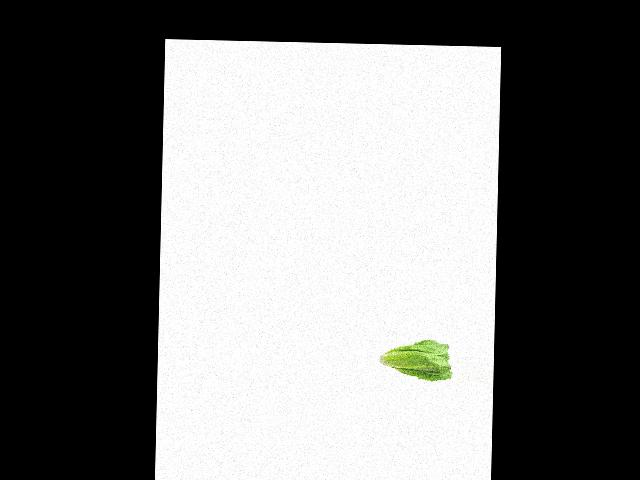lettuce: (379, 333, 453, 383)
